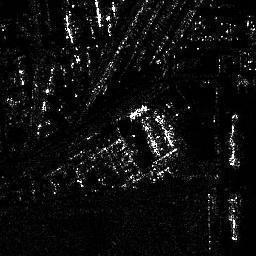ship: (224, 106, 244, 174), (224, 195, 248, 243)
